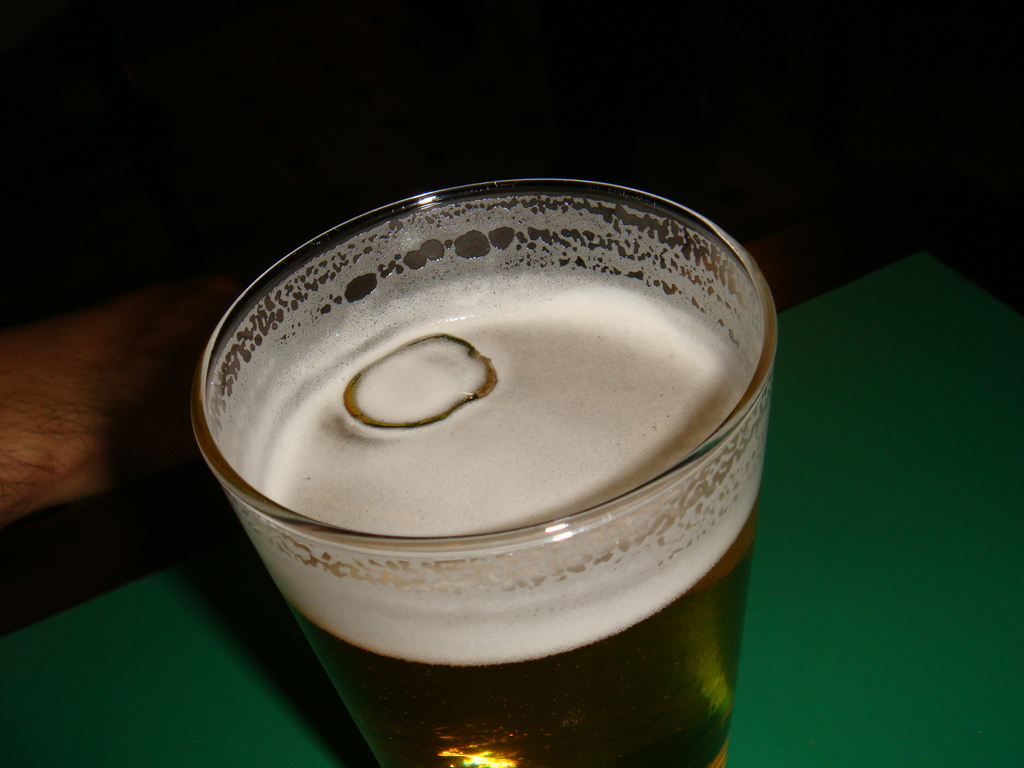Beer: (191, 179, 794, 767)
